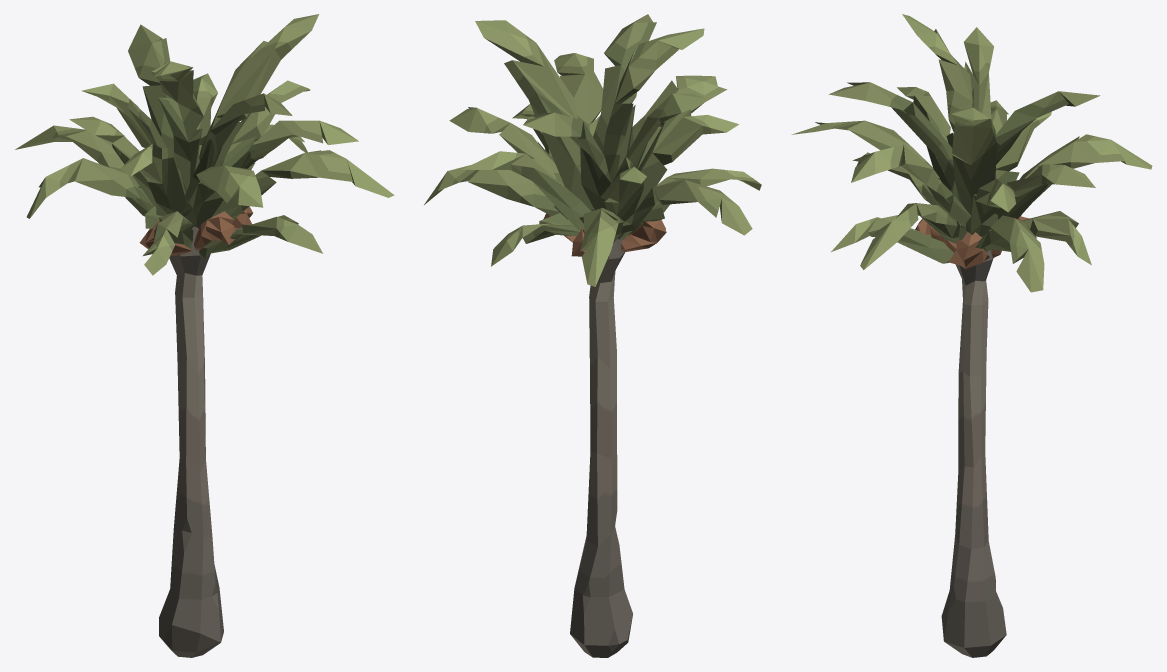
File: SM_Env_Tree_Big_03.glb
The picture shows the model from 3 angles, left to right: view 1: azimuth 30°, elevation 25°; view 2: azimuth 150°, elevation 25°; view 3: azimuth 270°, elevation 25°; orthographic projection. The views are drawn at different scales.
Visible parts, largest first — view 1: SM_Env_Tree_Big_03; view 2: SM_Env_Tree_Big_03; view 3: SM_Env_Tree_Big_03.
Boxes of the visible parts, x1,y1,x2,y2 form: SM_Env_Tree_Big_03: (15, 14, 394, 657); SM_Env_Tree_Big_03: (424, 14, 761, 657); SM_Env_Tree_Big_03: (791, 14, 1152, 657).
Bounding box in the file's own units: 6.06 × 11.85 × 6.38.
1 material, 1 textured.
